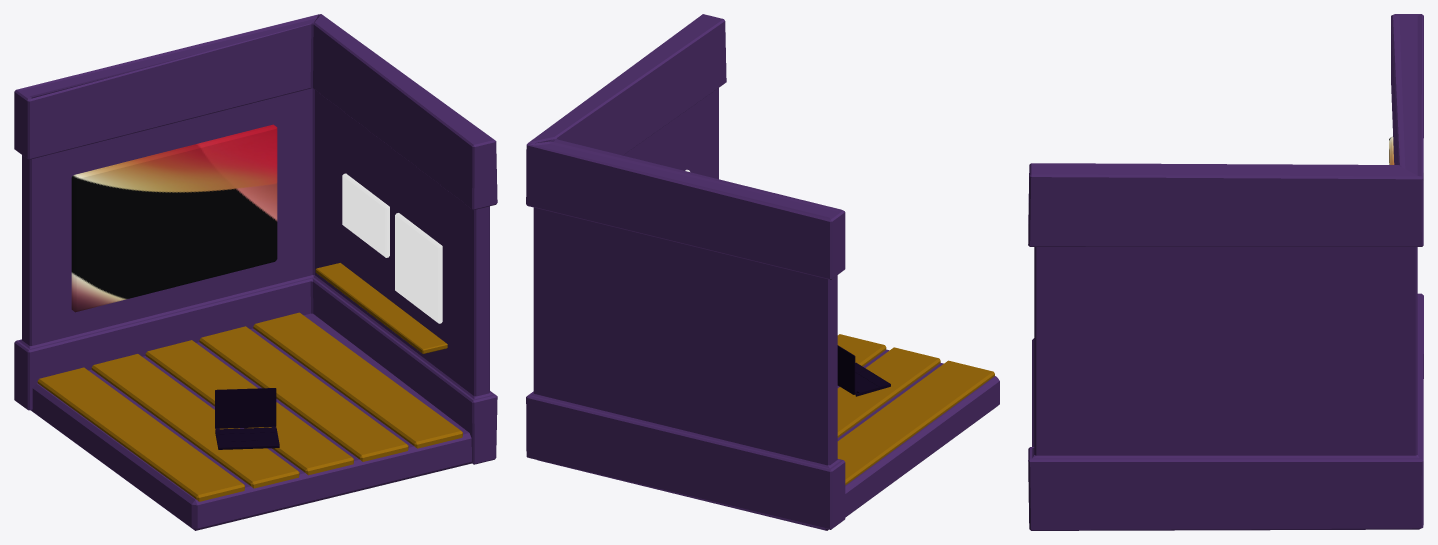
Rendered from home.gltf.
The picture shows the model from 3 angles, left to right: view 1: azimuth 30°, elevation 25°; view 2: azimuth 150°, elevation 25°; view 3: azimuth 270°, elevation 25°; orthographic projection. The views are drawn at different scales.
Parts seen in each view (by area): view 1: Cube, Plane.001, Cube.003, Plane, Cube.001, Abhishek_K_HW2, Cube.002; view 2: Cube, Plane.001, Plane, Abhishek_K_HW2; view 3: Cube.
Boxes of the visible parts, x1=… form: Cube: x1=14, y1=14, x2=497, y2=464; Plane.001: x1=37, y1=312, x2=462, y2=501; Cube.003: x1=71, y1=124, x2=277, y2=312; Plane: x1=31, y1=313, x2=471, y2=530; Cube.001: x1=342, y1=173, x2=442, y2=323; Abhishek_K_HW2: x1=215, y1=388, x2=279, y2=449; Cube.002: x1=315, y1=263, x2=447, y2=353; Cube: x1=526, y1=14, x2=845, y2=529; Plane.001: x1=837, y1=334, x2=994, y2=485; Plane: x1=537, y1=349, x2=999, y2=530; Abhishek_K_HW2: x1=837, y1=345, x2=890, y2=396; Cube: x1=1028, y1=14, x2=1423, y2=530.
Size of what is drawn, in the model's own units: 2.07 by 2.07 by 2.07.
Materials: 7 (1 with a texture image).
